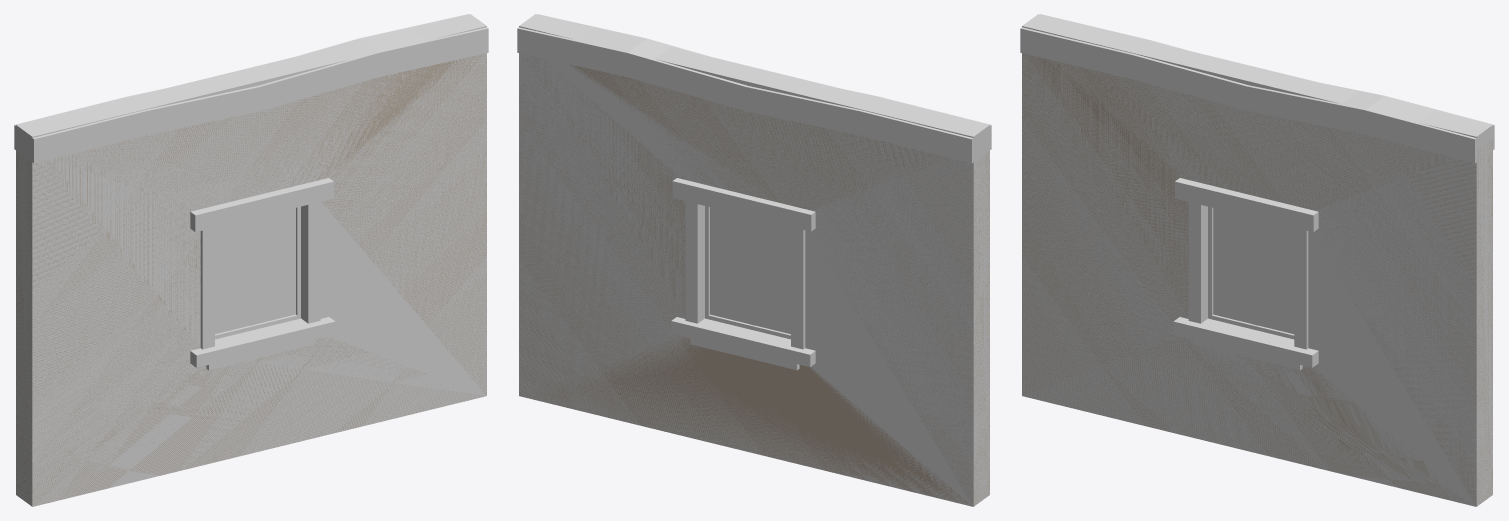
File: Wall_Window_1_2X.fbx
The picture shows the model from 3 angles, left to right: view 1: azimuth 30°, elevation 25°; view 2: azimuth 150°, elevation 25°; view 3: azimuth 330°, elevation 25°; orthographic projection.
Visible parts, largest first — view 1: Wall_Window_1_2X_COL0, Wall_Window_1_2X_LOD0; view 2: Wall_Window_1_2X_COL0, Wall_Window_1_2X_LOD0; view 3: Wall_Window_1_2X_COL0, Wall_Window_1_2X_LOD0.
Boxes of the visible parts, x1,y1,x2,y2 form: Wall_Window_1_2X_COL0: (16,14,486,506); Wall_Window_1_2X_LOD0: (14,14,488,506); Wall_Window_1_2X_COL0: (519,14,989,506); Wall_Window_1_2X_LOD0: (517,14,991,506); Wall_Window_1_2X_COL0: (1022,14,1492,506); Wall_Window_1_2X_LOD0: (1020,14,1494,506).
Size of what is drawn, in the model's own units: 400 by 312 by 43.14.
